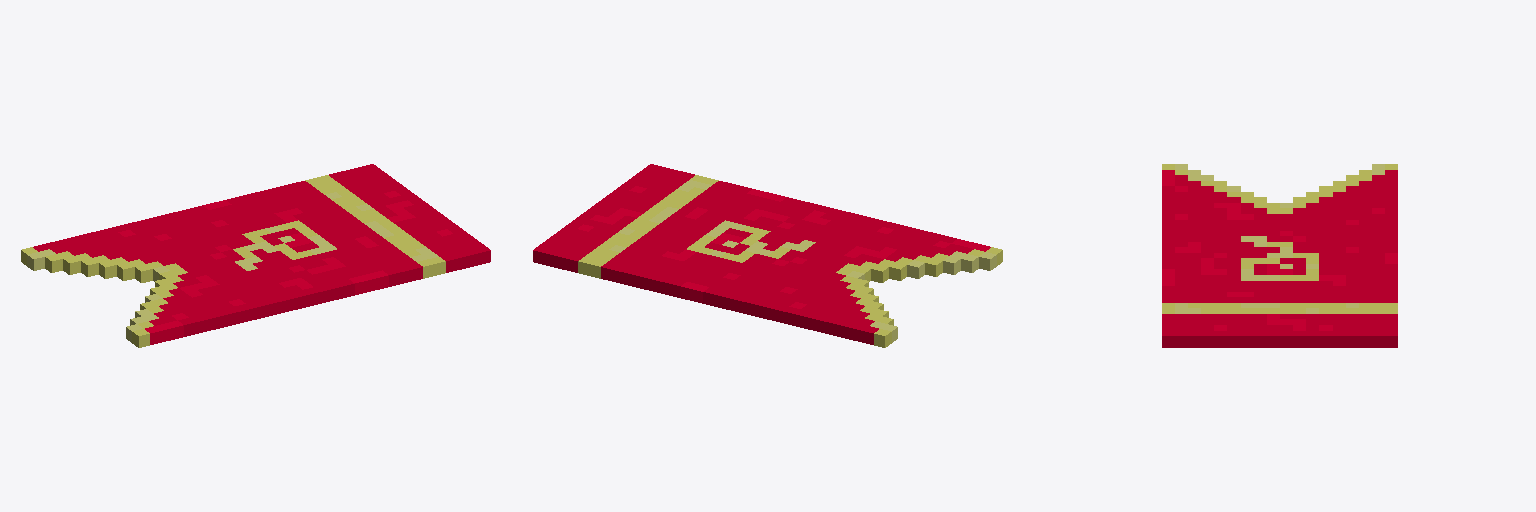
The picture shows the model from 3 angles: view 1: azimuth 30°, elevation 25°; view 2: azimuth 150°, elevation 25°; view 3: azimuth 270°, elevation 25°; orthographic projection.
Parts seen in each view (by area): view 1: object 1; view 2: object 1; view 3: object 1.
Boxes of the visible parts, box(x1,y1,x2,y2) form: object 1: box(21, 164, 490, 347); object 1: box(533, 164, 1002, 347); object 1: box(1162, 164, 1397, 347).
Size of the model in its own units: 3.1 by 0.1 by 1.8.
1 materials, 1 textured.